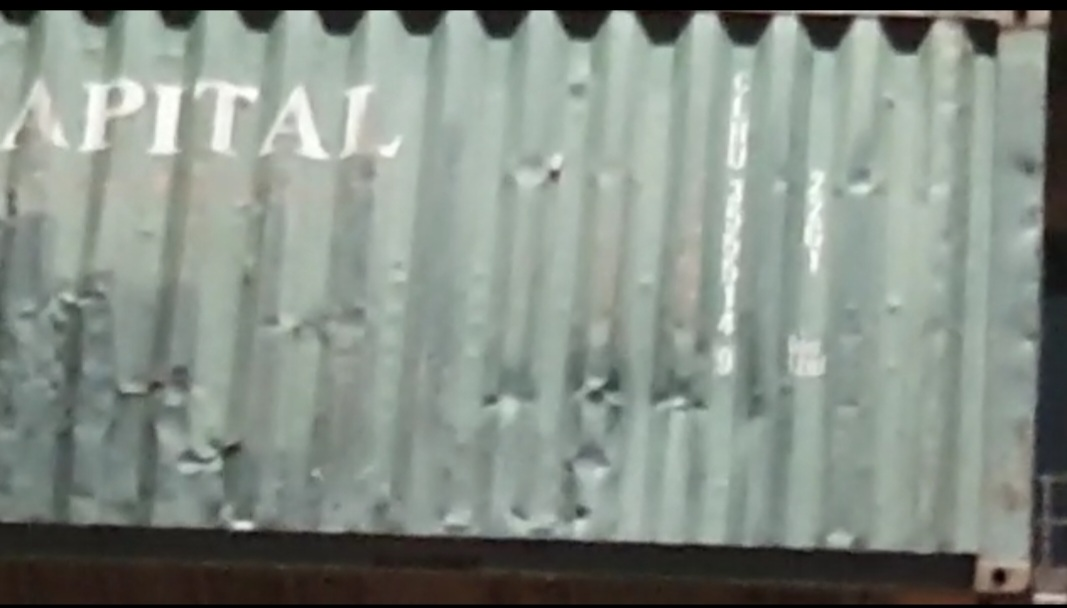dented: (524, 359, 758, 463), (110, 388, 247, 486), (70, 338, 227, 397), (500, 478, 600, 536), (516, 141, 572, 187)
